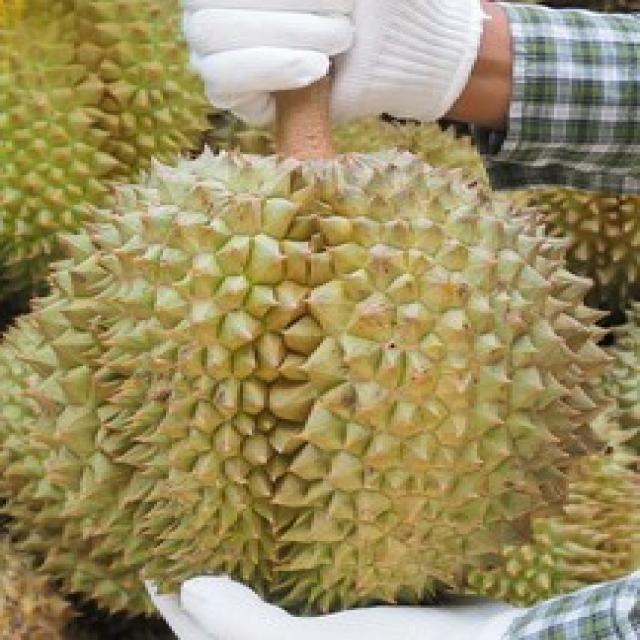RIPE: (1, 151, 608, 621)
